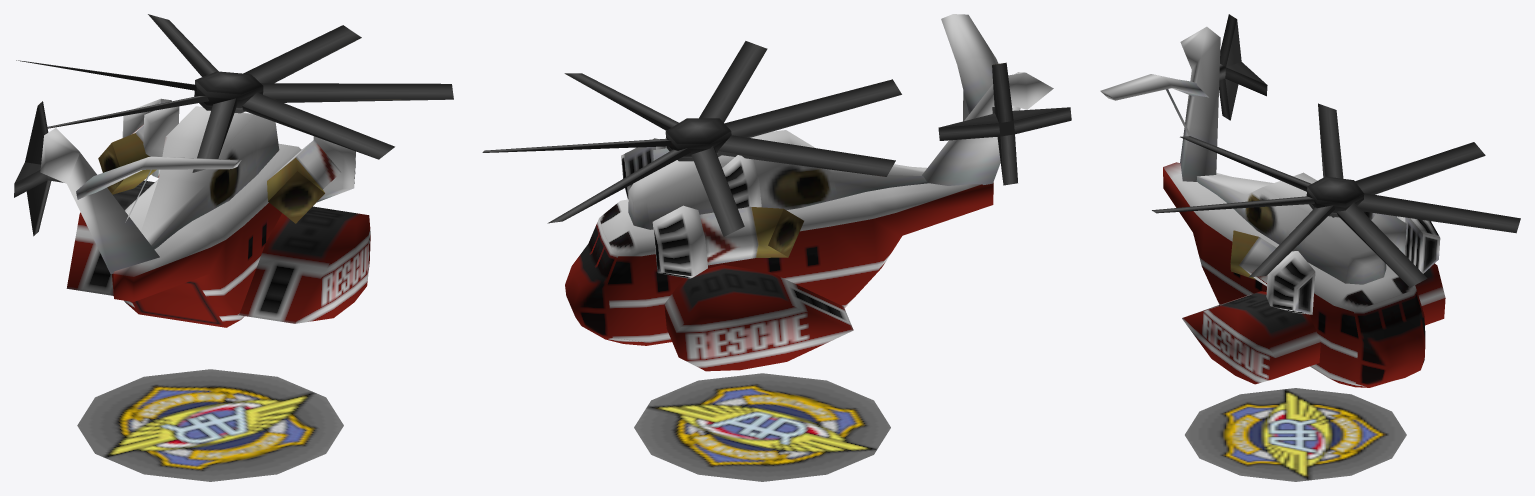
File: static.ico.obj
3 renders of one model, left to right at view 1: azimuth 30°, elevation 25°; view 2: azimuth 150°, elevation 25°; view 3: azimuth 270°, elevation 25°, orthographic. The views are drawn at different scales.
Bounding box in the file's own units: 4.38 × 3.48 × 3.97.
Materials: 1 (1 with a texture image).
